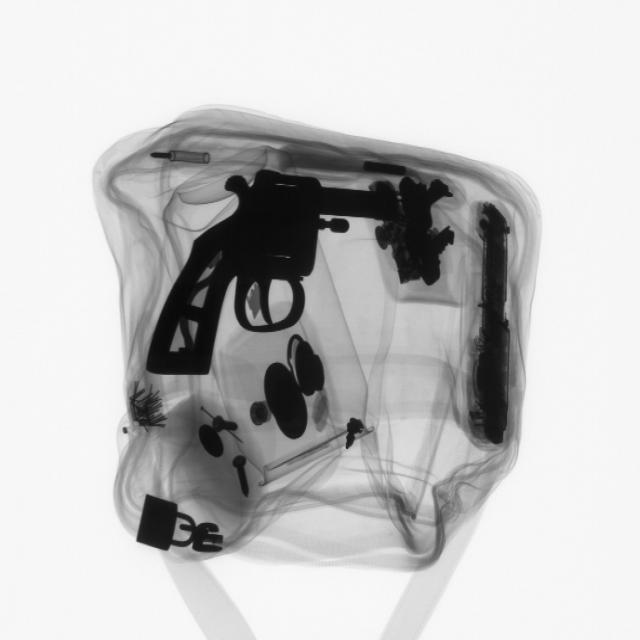GUN: (149, 171, 399, 391)
SCREW: (220, 452, 271, 506), (202, 408, 253, 445)
